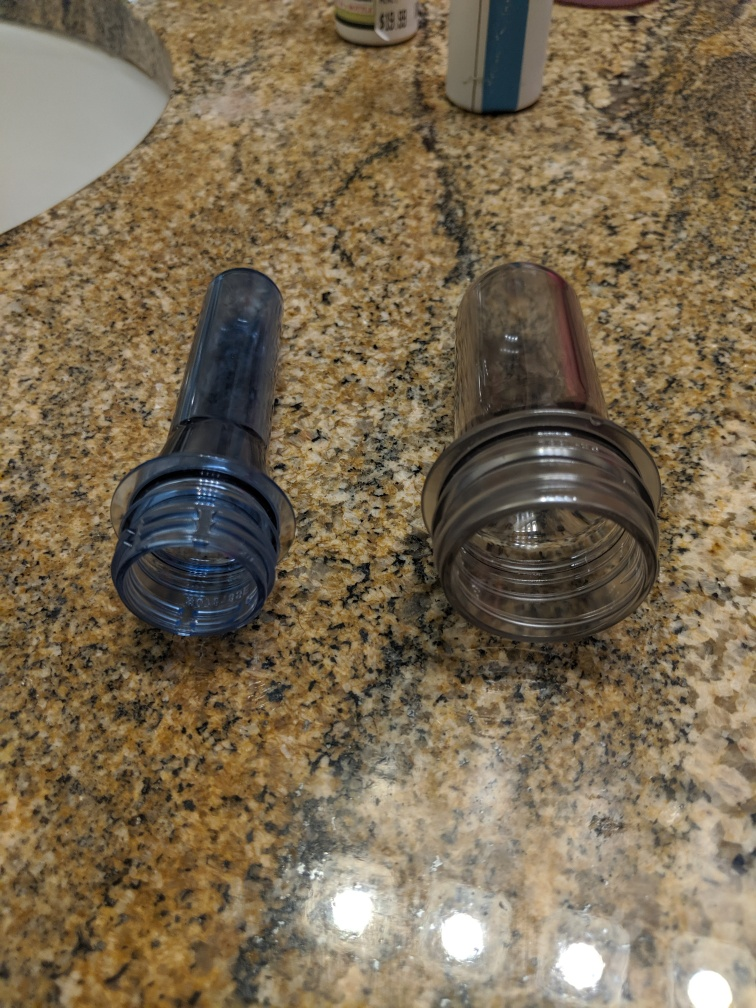preform: (407, 253, 675, 654), (92, 260, 304, 650)
